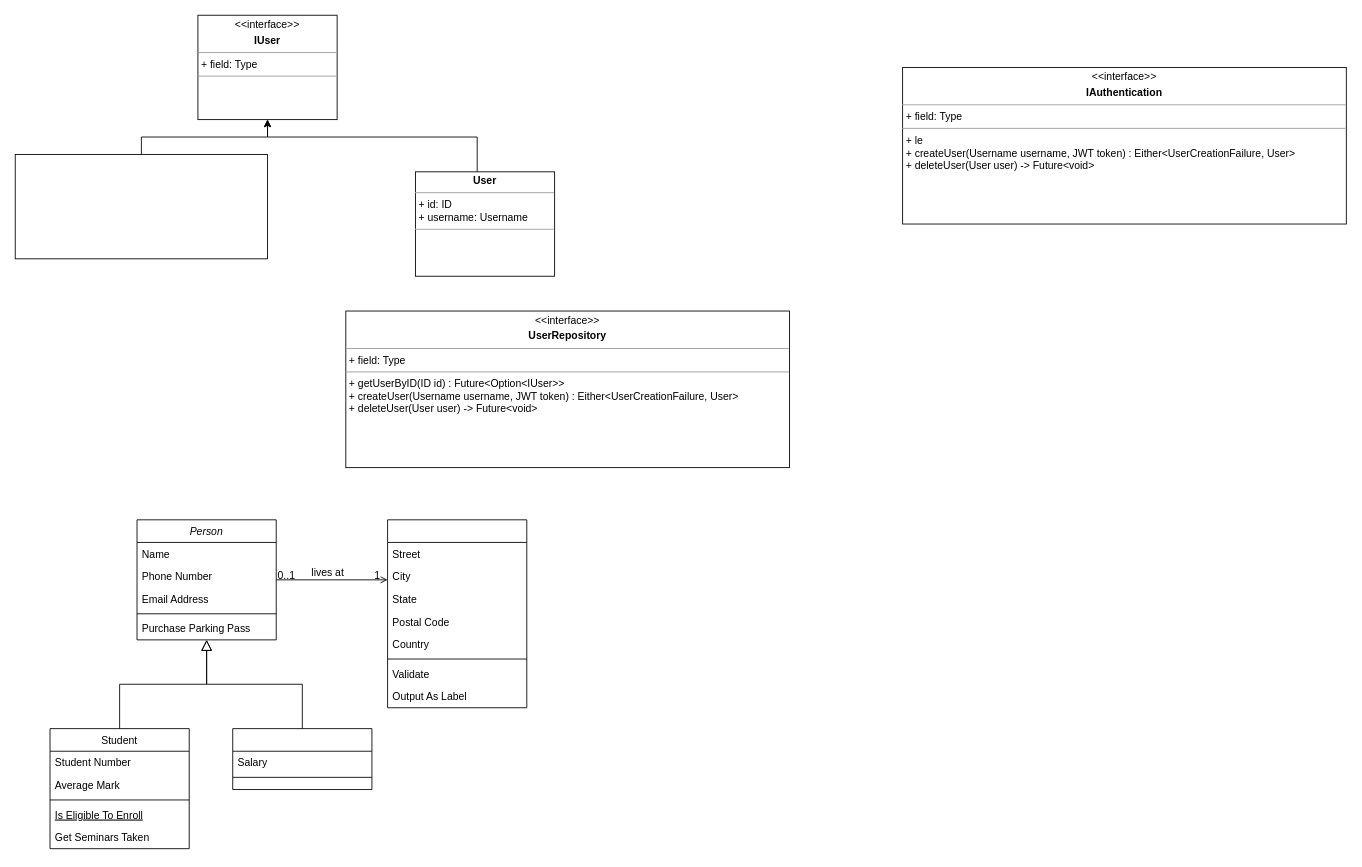
Some shapes in this 1362 by 867 pixel diagram are drawn without their labels. Each missing label, with the box of its shape:
Address: (387, 519, 527, 708)
IncompleteUser + id: Option<ID> + username: Option<Username> usernameOption: (14, 154, 268, 259)
Professor: (232, 728, 372, 790)
